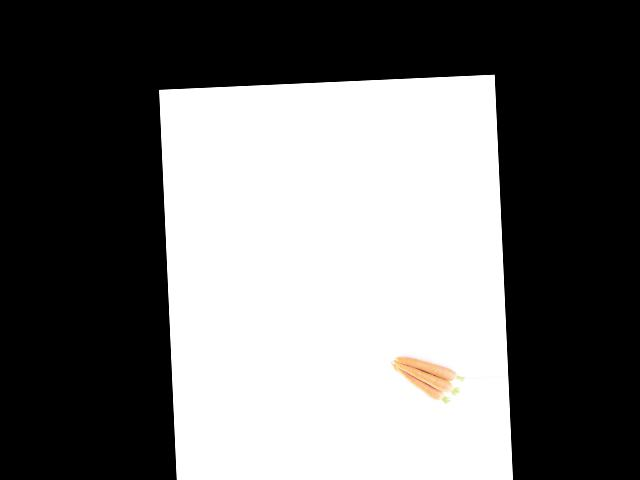carrot: (399, 342, 467, 383)
